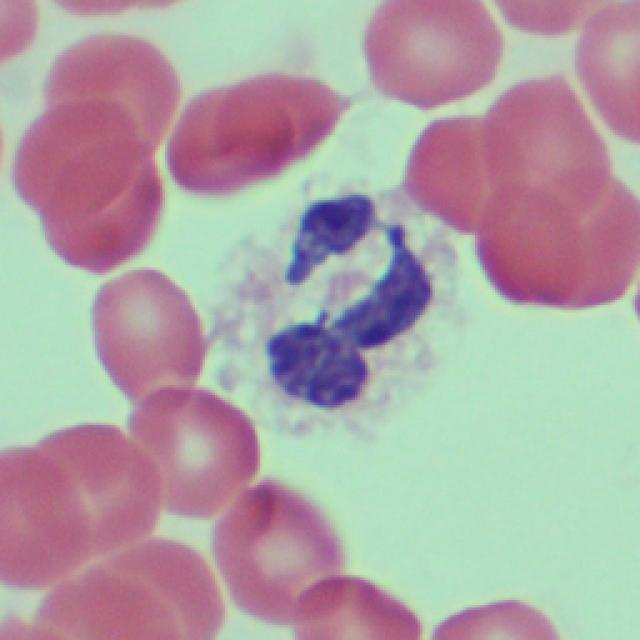RBC: (471, 70, 638, 302), (21, 22, 168, 268), (213, 476, 340, 620), (127, 380, 251, 524), (86, 265, 206, 402), (35, 421, 157, 547), (358, 2, 497, 109), (0, 435, 85, 595), (167, 99, 334, 179), (397, 114, 503, 235), (44, 572, 201, 640), (572, 1, 640, 139), (290, 572, 422, 640), (441, 599, 562, 640), (0, 0, 39, 74)
WBC: (273, 193, 429, 404)
